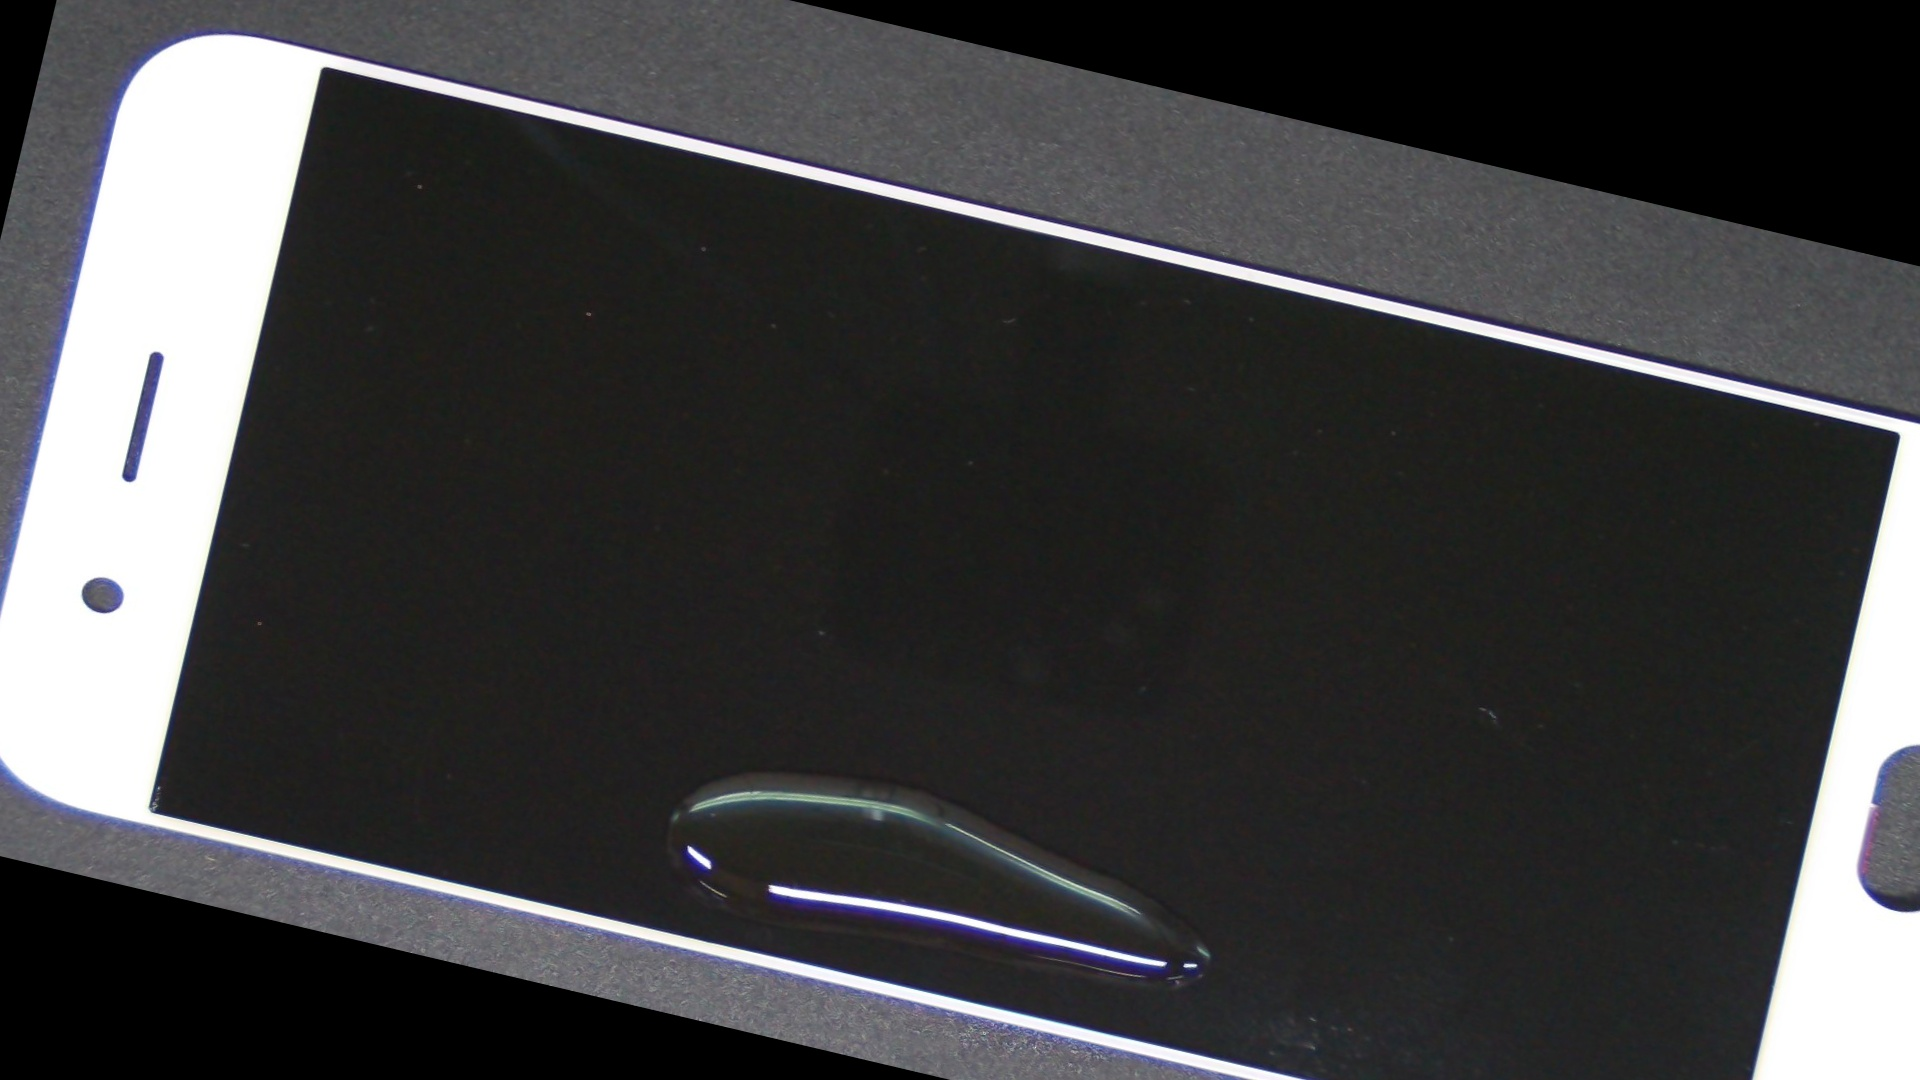oil: (355, 311, 1484, 1080)
